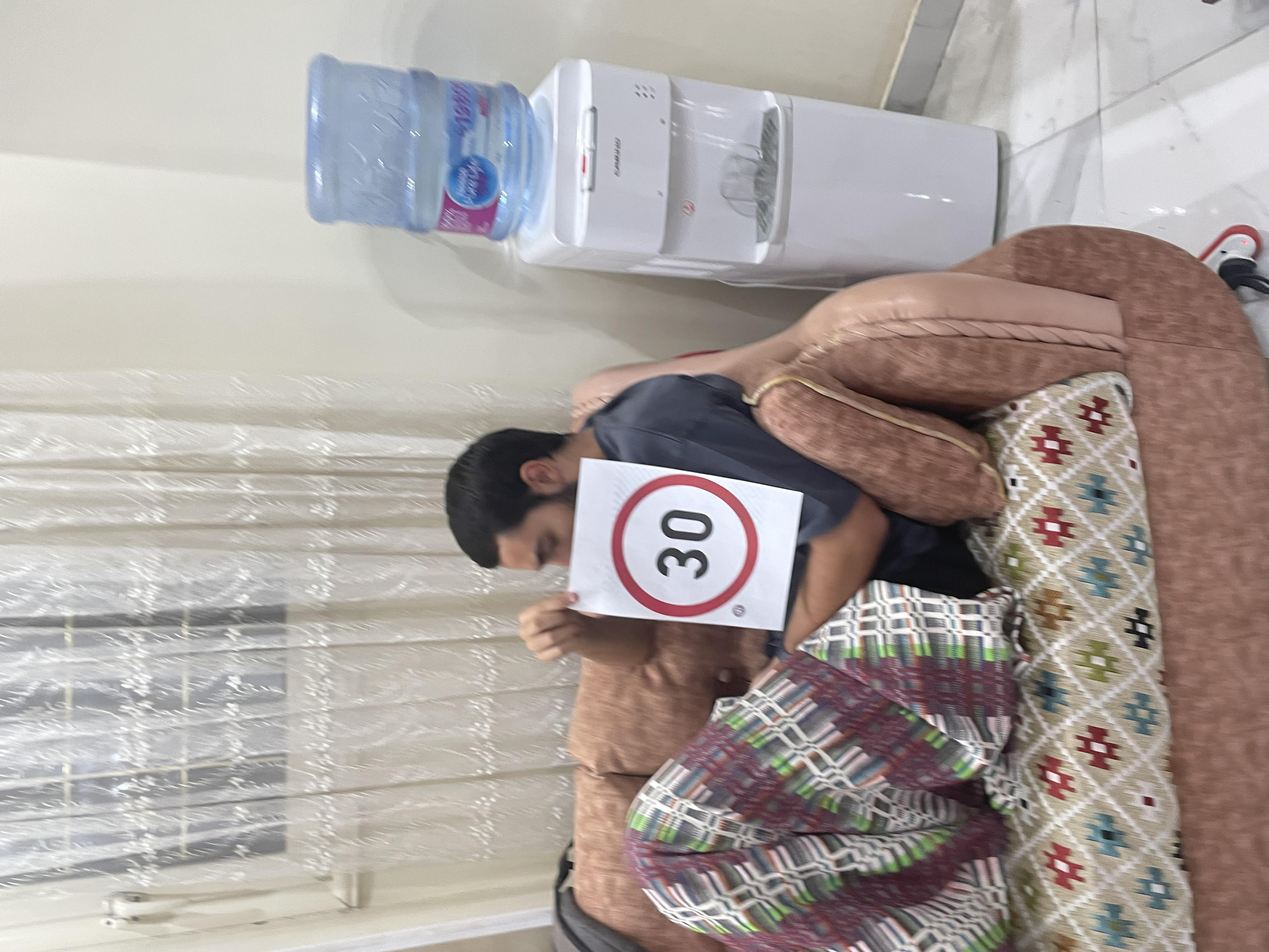30-speed: (454, 451, 630, 572)
